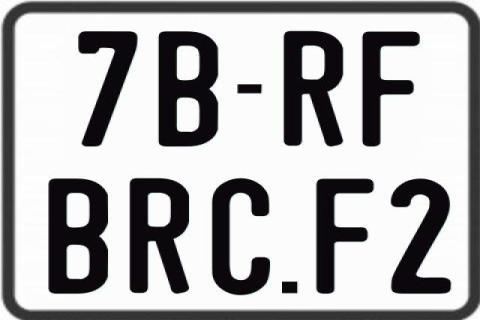0: (388, 177, 452, 297), (78, 29, 141, 147)
B: (157, 32, 222, 150), (47, 179, 107, 295)
C: (211, 178, 275, 296)
F: (315, 178, 378, 294), (360, 30, 422, 146)
R: (282, 31, 347, 149), (130, 177, 189, 297)
